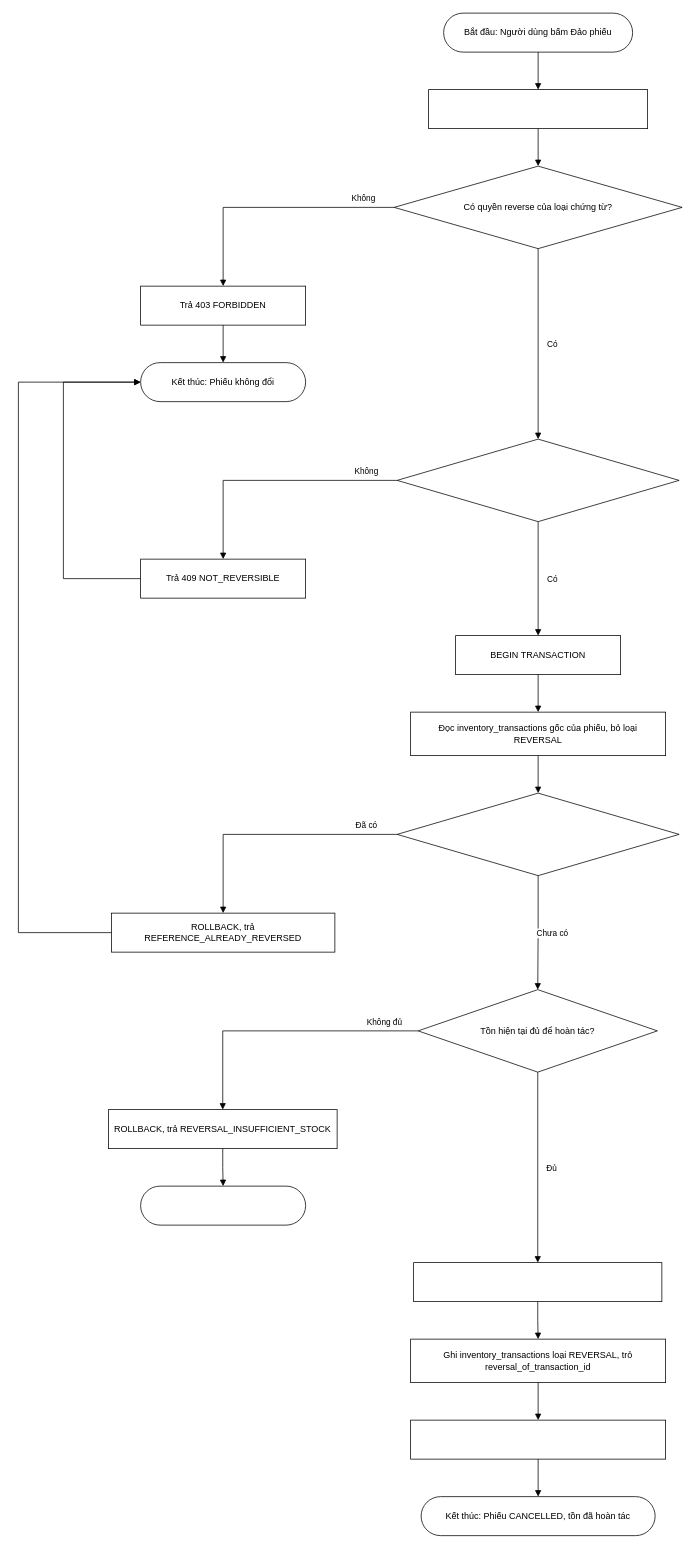
The diagram is 695 pixels wide and 1549 high, and some of its shapes have lost their labels. The shapes that lost their labels are listed below. From the top down, each one's centre as x and y in pixels, then its label:
(x=538, y=109): Gọi POST /:id/reverse của loại chứng từ
(x=537, y=480): Phiếu đang ở trạng thái CONFIRMED?
(x=537, y=834): Đã tồn tại giao dịch đảo trước đó?
(x=223, y=1205): Kết thúc: Tồn kho không đổi
(x=537, y=1282): Cập nhật stock_locations theo chiều ngược lại
(x=538, y=1439): Đổi trạng thái phiếu gốc sang CANCELLED, COMMIT
